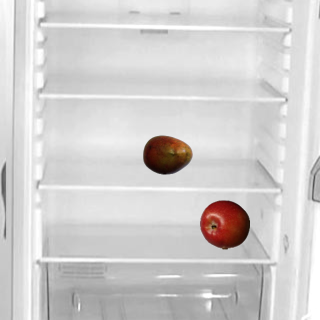Apple Braeburn: (199, 199, 249, 249)
Mango Red: (142, 129, 192, 179)
